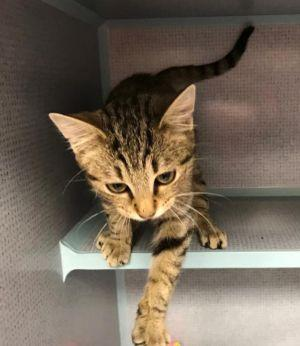bengal: (46, 82, 212, 234)
